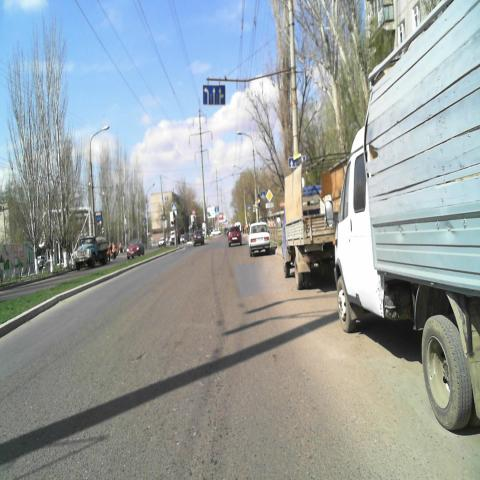6_15_1: (288, 156, 306, 167)
